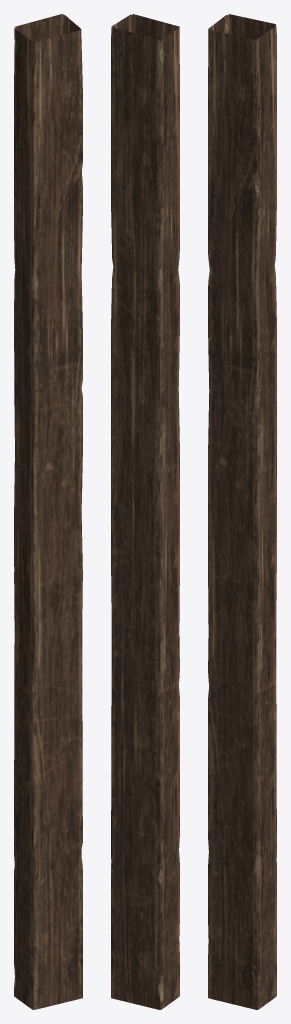
File: SM_Wall_Pannels_02.fbx
The picture shows the model from 3 angles, left to right: view 1: azimuth 30°, elevation 25°; view 2: azimuth 150°, elevation 25°; view 3: azimuth 330°, elevation 25°; orthographic projection.
Parts seen in each view (by area): view 1: SM_Wall_Pannels_02_LOD0; view 2: SM_Wall_Pannels_02_LOD0; view 3: SM_Wall_Pannels_02_LOD0.
Boxes of the visible parts, x1,y1,x2,y2 form: SM_Wall_Pannels_02_LOD0: (14,14,82,1009); SM_Wall_Pannels_02_LOD0: (111,14,179,1009); SM_Wall_Pannels_02_LOD0: (208,14,276,1009).
Size of the model in its own units: 20.95 by 14.33 by 384.
